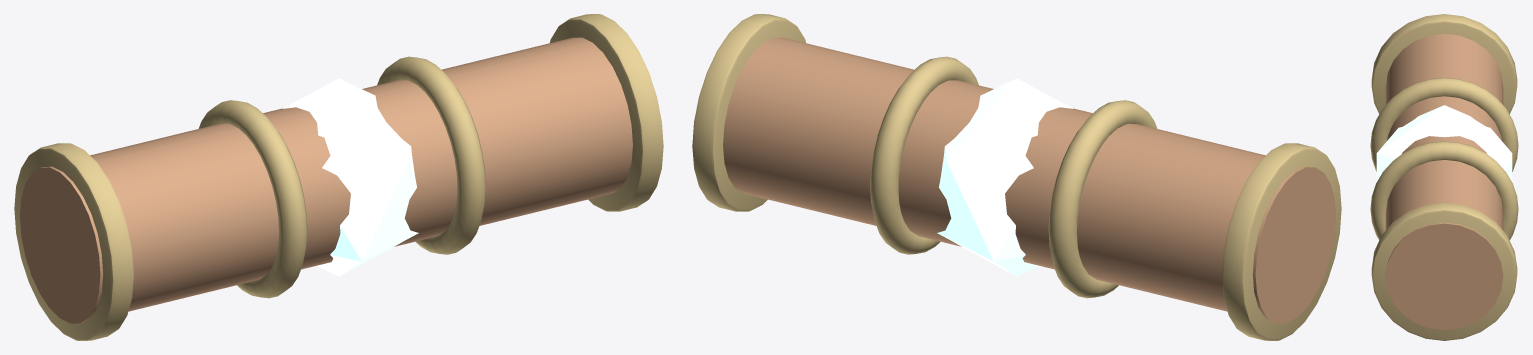
Rendered from CanoCristal.fbx.
3 renders of one model, left to right at view 1: azimuth 30°, elevation 25°; view 2: azimuth 150°, elevation 25°; view 3: azimuth 270°, elevation 25°, orthographic. The views are drawn at different scales.
Visible parts, largest first — view 1: CanoCristal; view 2: CanoCristal; view 3: CanoCristal.
Boxes of the visible parts, x1,y1,x2,y2 form: CanoCristal: (14,14,663,340); CanoCristal: (692,14,1341,340); CanoCristal: (1370,14,1518,340).
Bounding box in the file's own units: 2 × 0.68 × 0.63.
